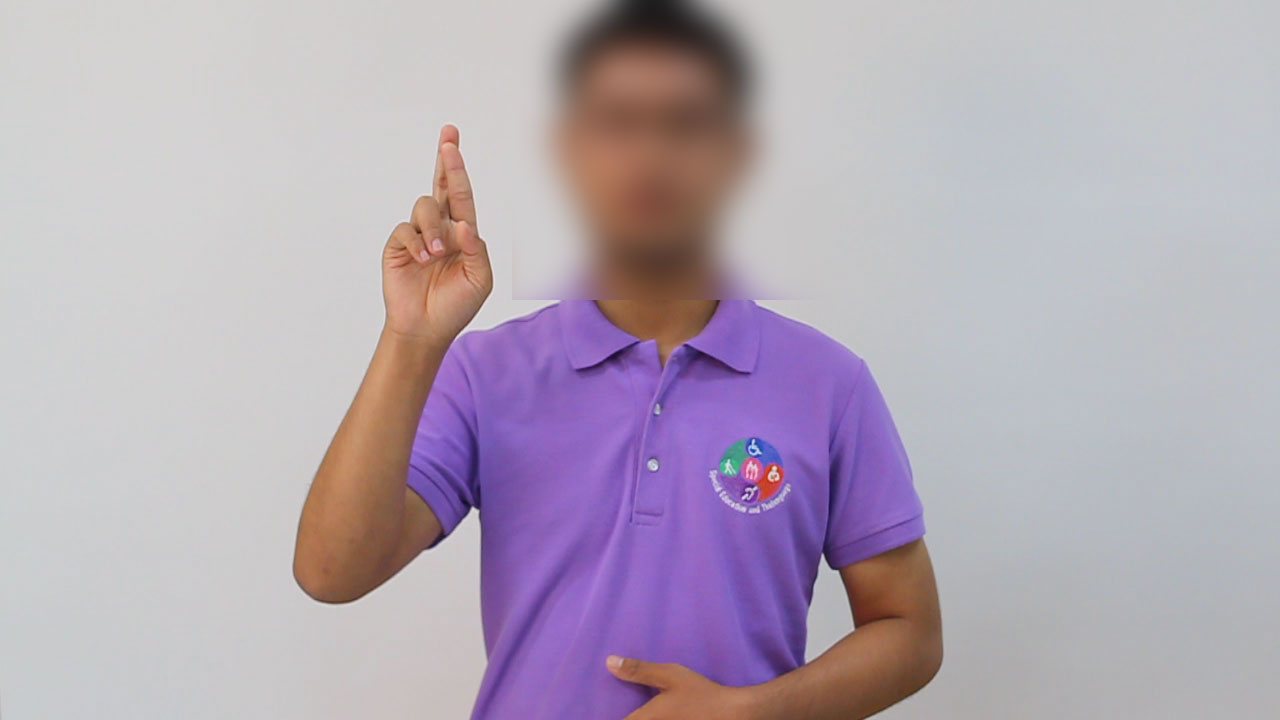rao: (368, 117, 498, 373)
